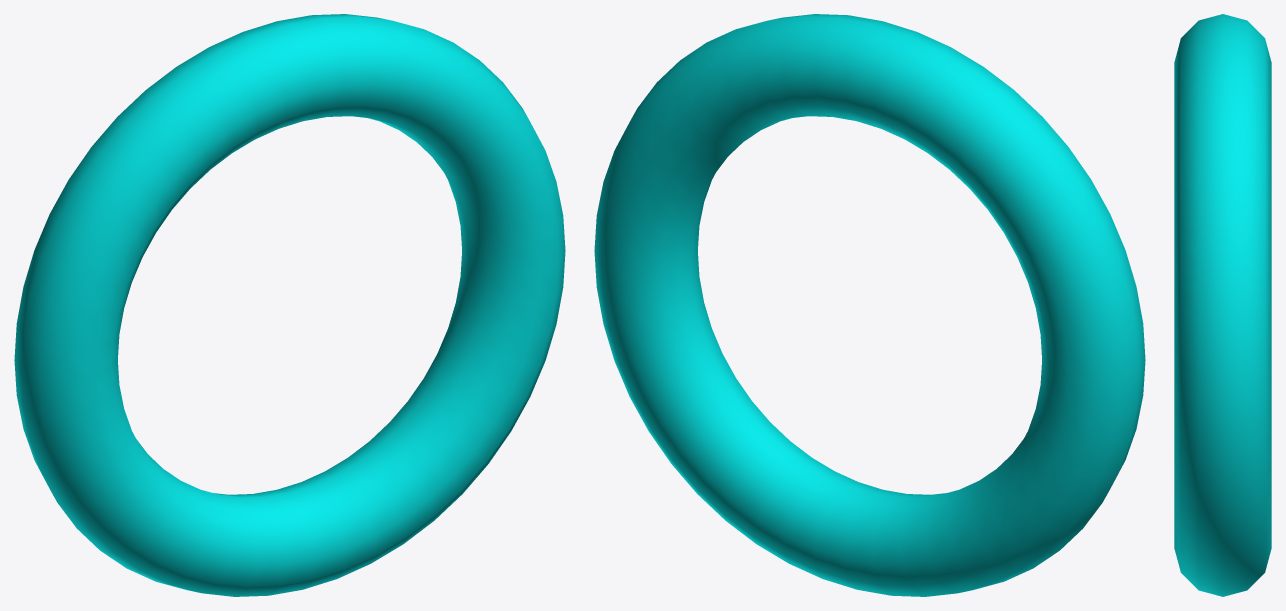
Rendered from magicFire.glb.
3 views of the same model, side by side, from view 1: azimuth 30°, elevation 25°; view 2: azimuth 150°, elevation 25°; view 3: azimuth 270°, elevation 25° (orthographic). The views are drawn at different scales.
Visible parts, largest first — view 1: Torus; view 2: Torus; view 3: Torus.
Part boxes in pixels (box(x1,y1,x2,y2)): Torus: box(14, 14, 565, 596); Torus: box(594, 14, 1145, 596); Torus: box(1174, 14, 1271, 596).
Size of the model in its own units: 2.4 by 2.4 by 0.4.
